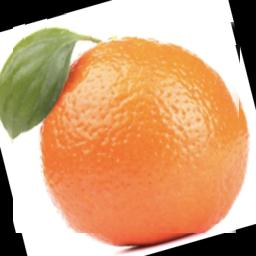Orange Fresh: (14, 13, 242, 234)
